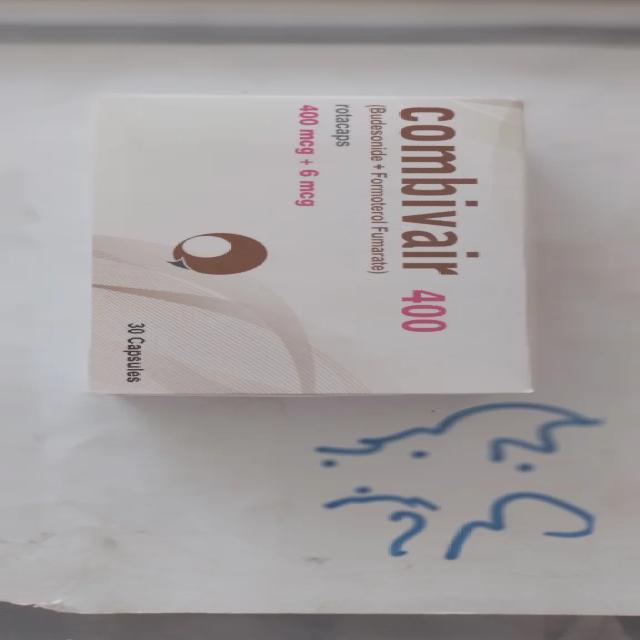drug-name: (397, 103, 483, 334)
